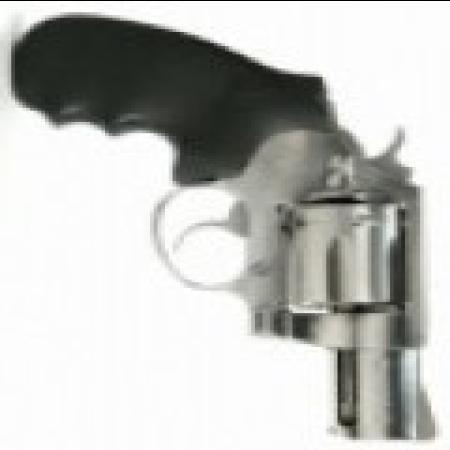Pistol: (12, 14, 442, 444)
